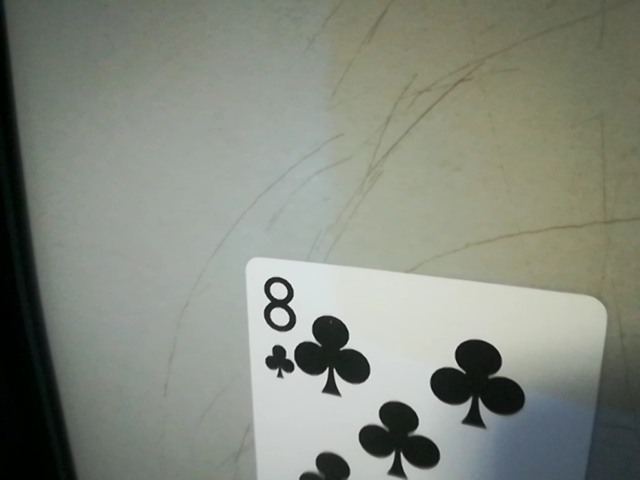mh 8: (246, 265, 304, 380)
